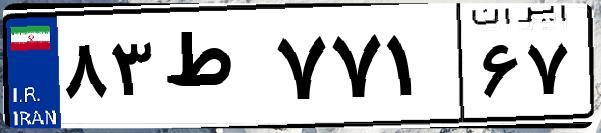1: (385, 28, 445, 110)
3: (110, 28, 158, 98)
6: (475, 38, 525, 113)
7: (270, 28, 330, 110), (330, 28, 385, 110), (525, 38, 570, 115)
8: (57, 26, 110, 100)
ط: (158, 20, 270, 120)
